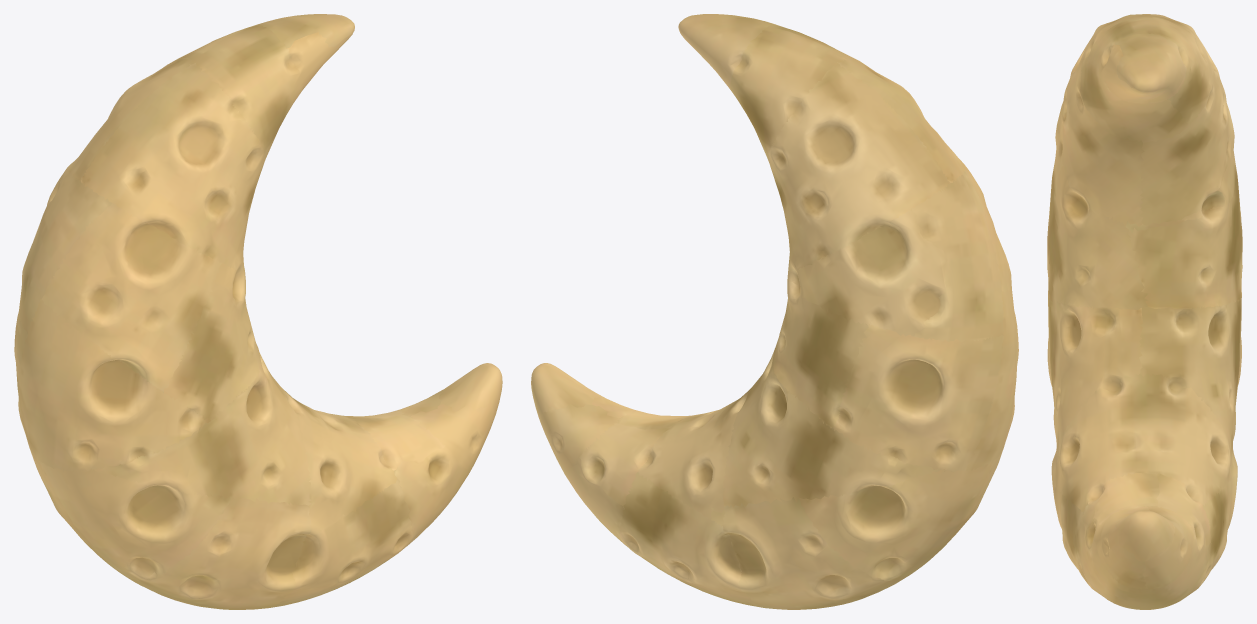
The model's file is poplur_moon_crescent_lite.glb.
The picture shows the model from 3 angles, left to right: view 1: azimuth 30°, elevation 25°; view 2: azimuth 150°, elevation 25°; view 3: azimuth 270°, elevation 25°; orthographic projection. The views are drawn at different scales.
Bounding box in the file's own units: 1.65 × 1.9 × 0.6138.
Materials: 1 (1 with a texture image).
